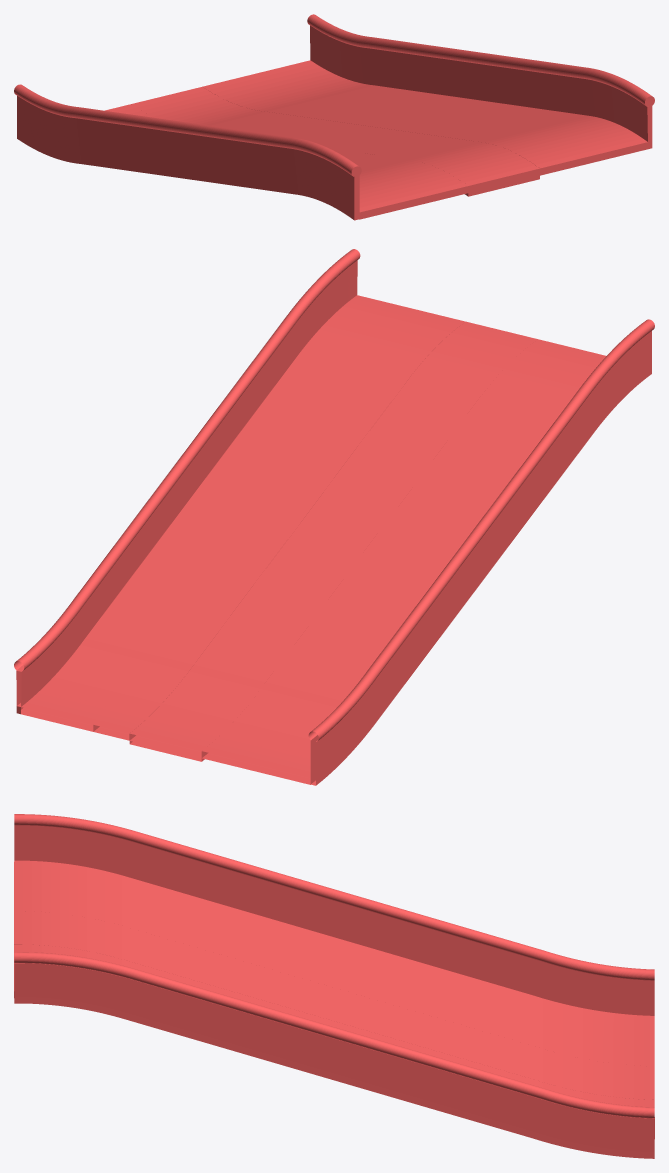
The model's file is trackpiece-ramp-single.glb.
The picture shows the model from 3 angles, top to bottom: view 1: azimuth 30°, elevation 25°; view 2: azimuth 150°, elevation 25°; view 3: azimuth 270°, elevation 25°; orthographic projection. The views are drawn at different scales.
Visible parts, largest first — view 1: Track piece/short; view 2: Track piece/short; view 3: Track piece/short.
Part boxes in pixels (left/top/right/bottom): Track piece/short: left=14, top=14, right=654, bottom=220; Track piece/short: left=14, top=249, right=654, bottom=785; Track piece/short: left=14, top=814, right=654, bottom=1158.
Bounding box in the file's own units: 8.38 × 5.81 × 16.
